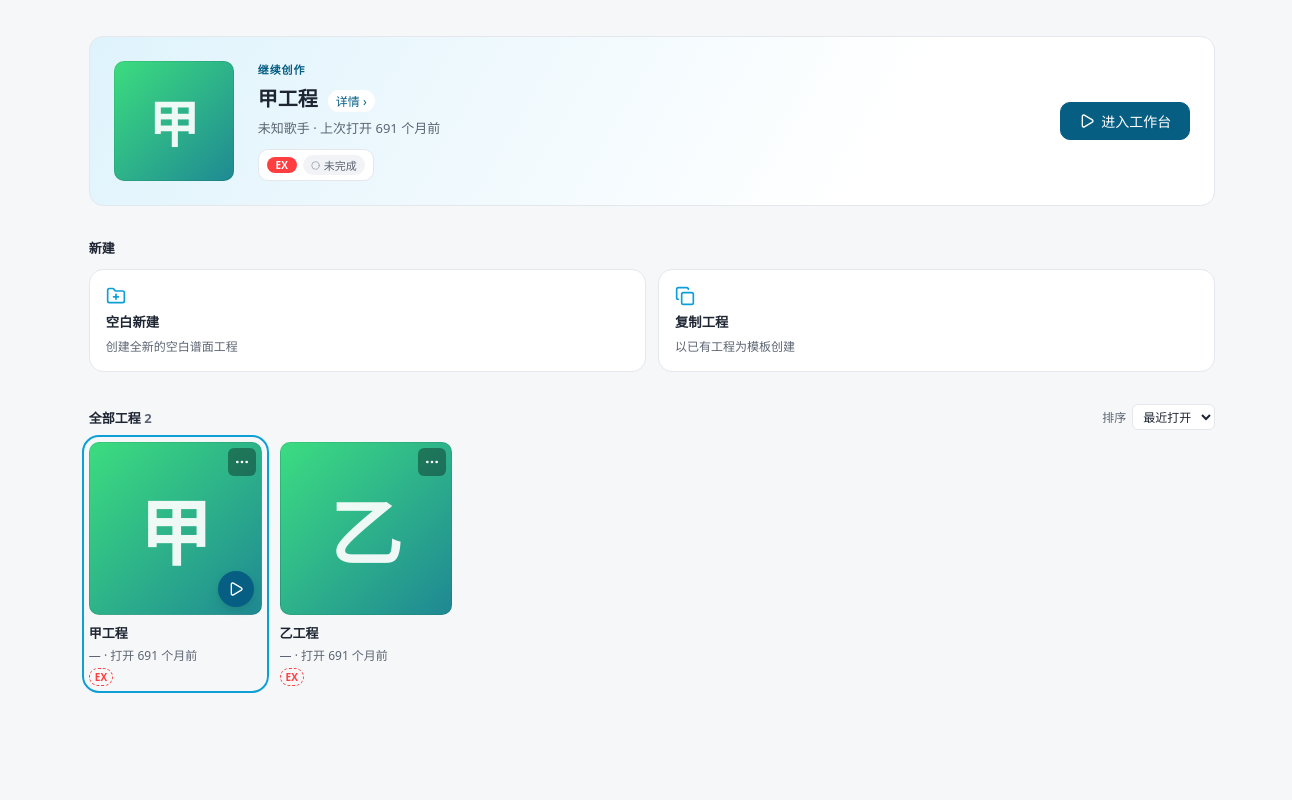
Scenario: issue 19 #1 · 主页 ↔ 详情切换动效的接线 › 详情内切换工程不换包裹层节点（动画不重放、滚动不丢）
Click the element showing "甲 甲工程 — · 打开 691 个月前 EX" at coordinates (175, 564), box [89,442,262,686]
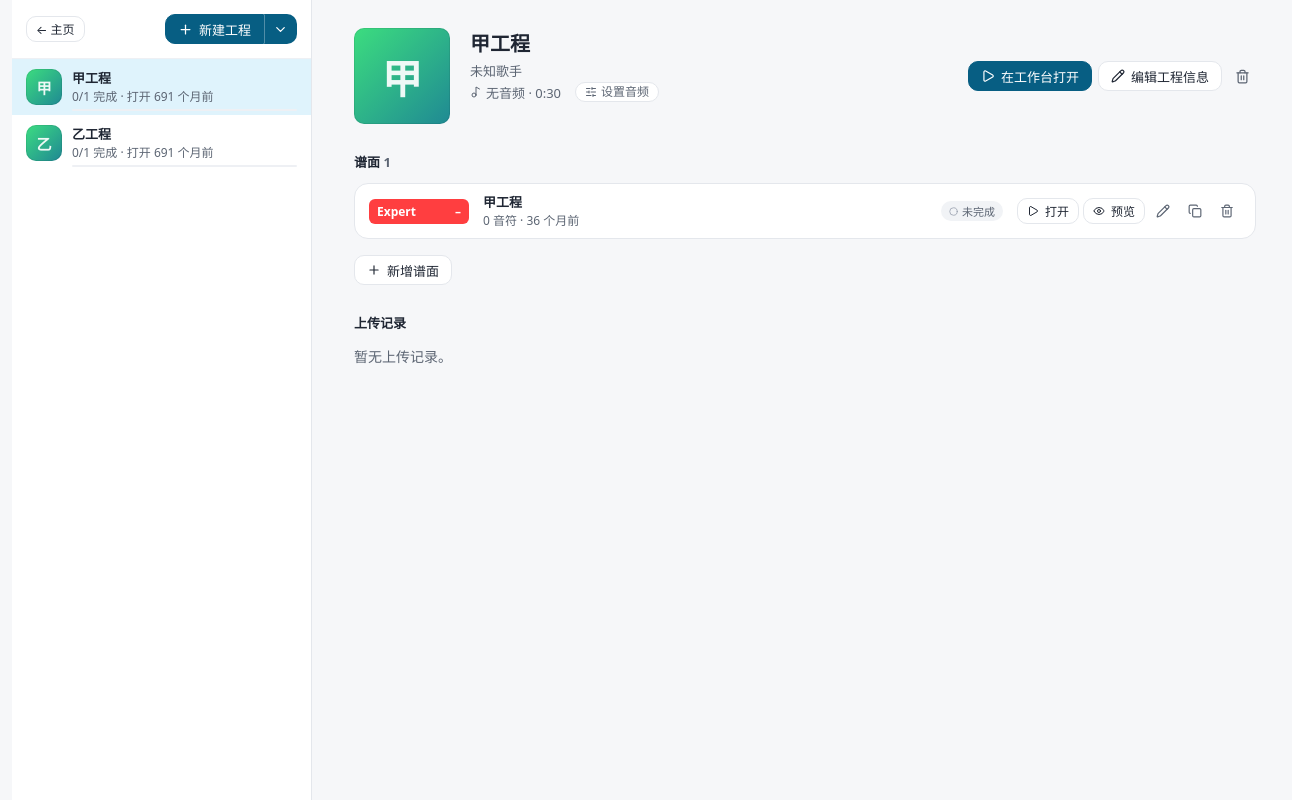
Expected: the heading "甲工程" is shown, [470,30,530,57]
Click the text "乙工程" at coordinates (92, 134), box [72,125,111,143]
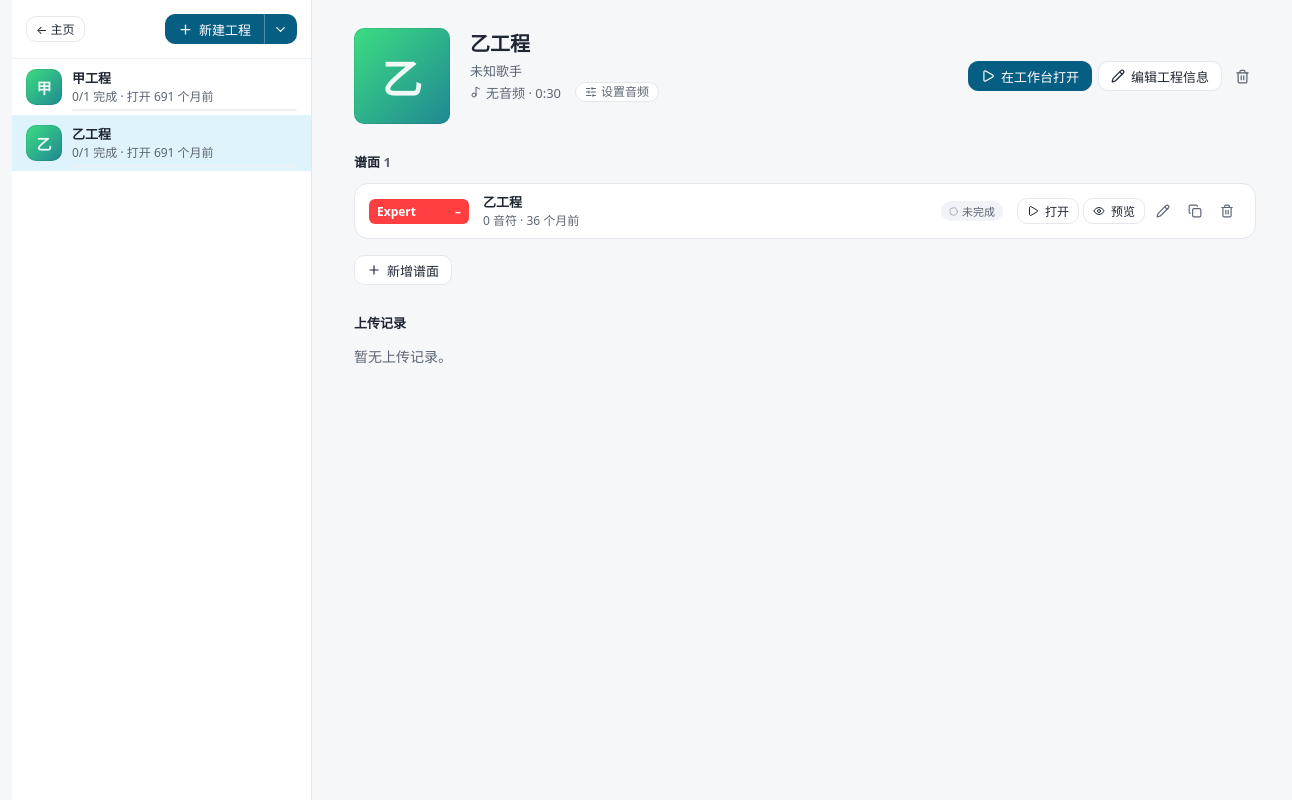
Result: the heading "乙工程" is shown at [470,30,530,57]
